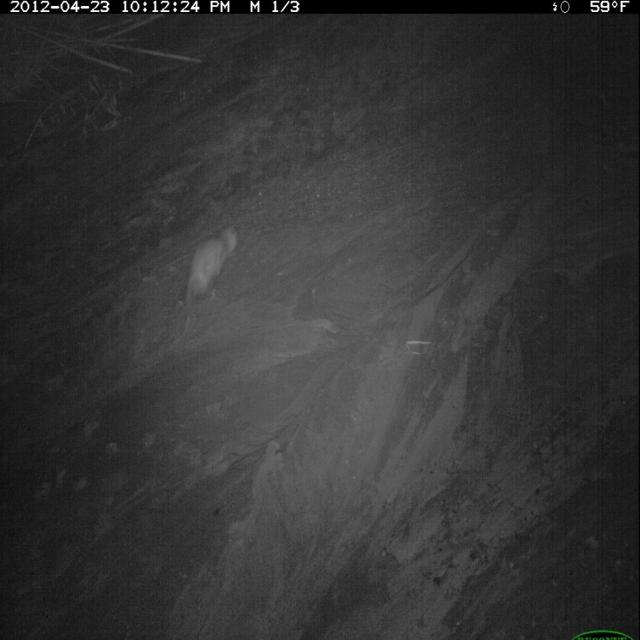opossum: (183, 218, 243, 335)
